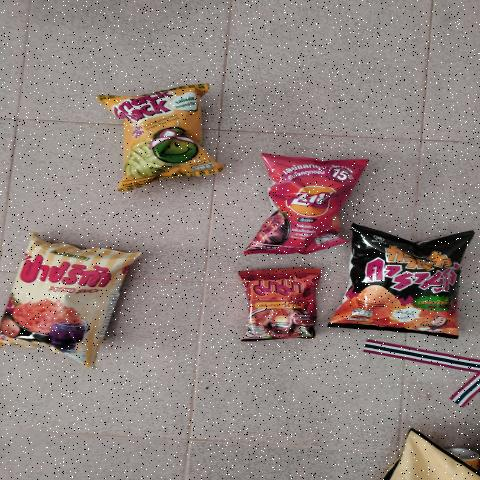karamujo: (344, 246, 451, 318)
mama: (257, 280, 314, 331)
paprika: (10, 247, 99, 361)
snack_jack: (120, 94, 210, 165)
